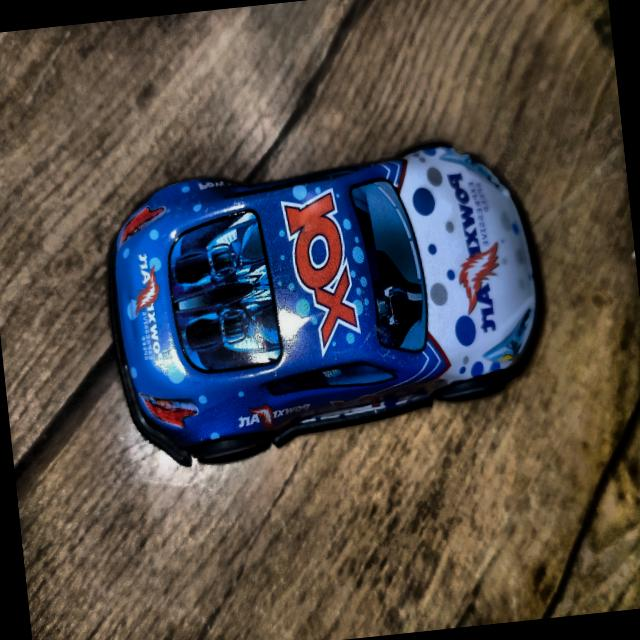Car: (97, 134, 553, 470)
